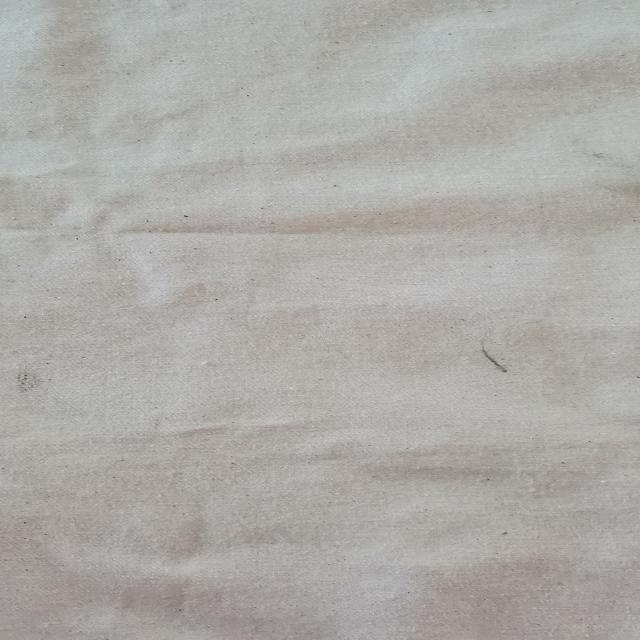taaaches: (462, 341, 536, 379)
